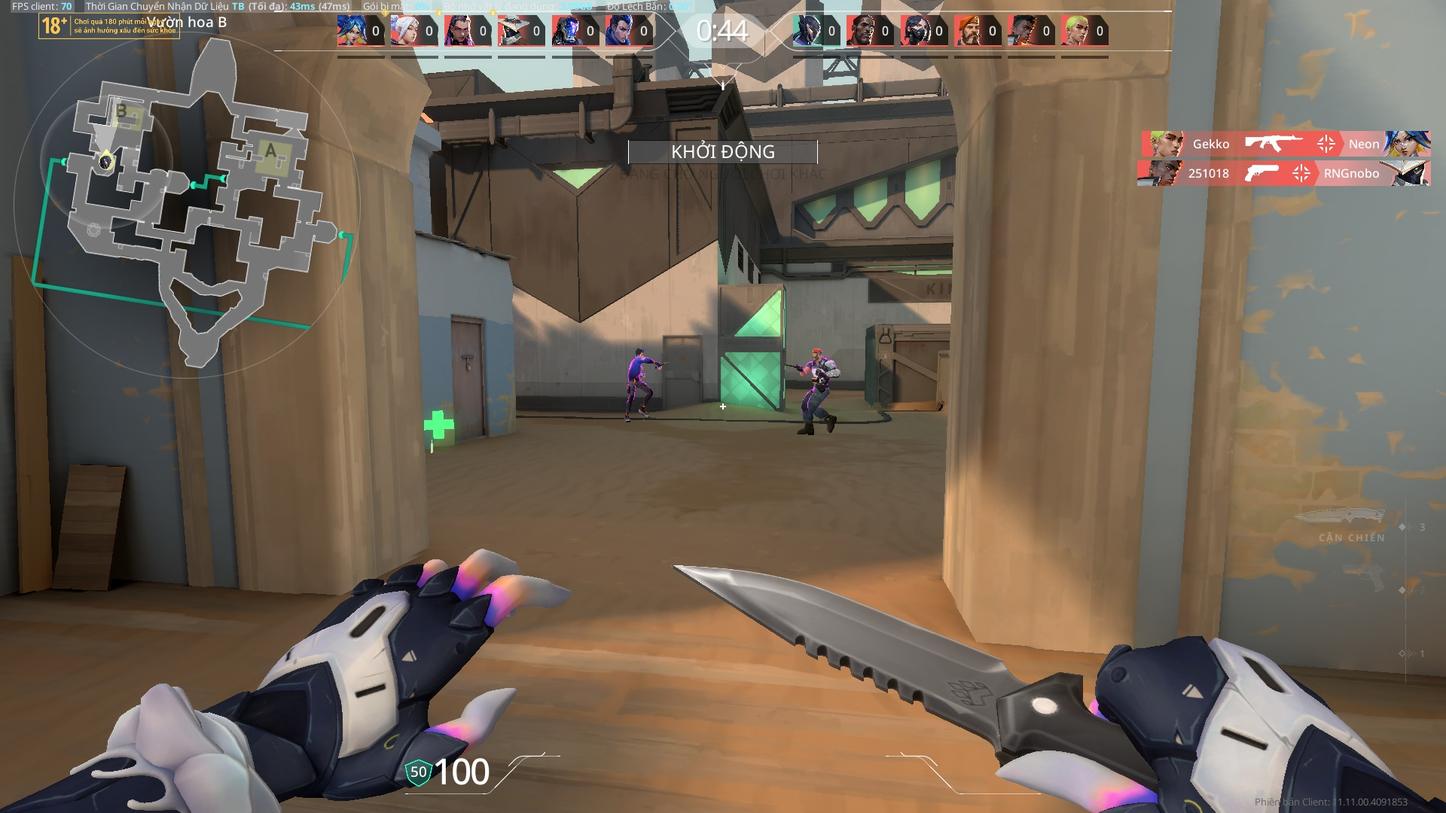body: (807, 357, 829, 386), (627, 353, 650, 379)
head: (636, 345, 648, 358), (813, 347, 822, 360)
